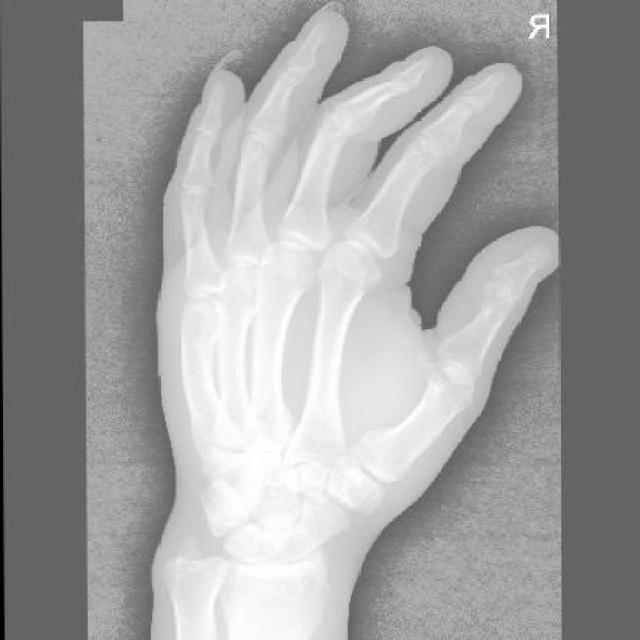Fracture: (243, 377, 287, 431)
